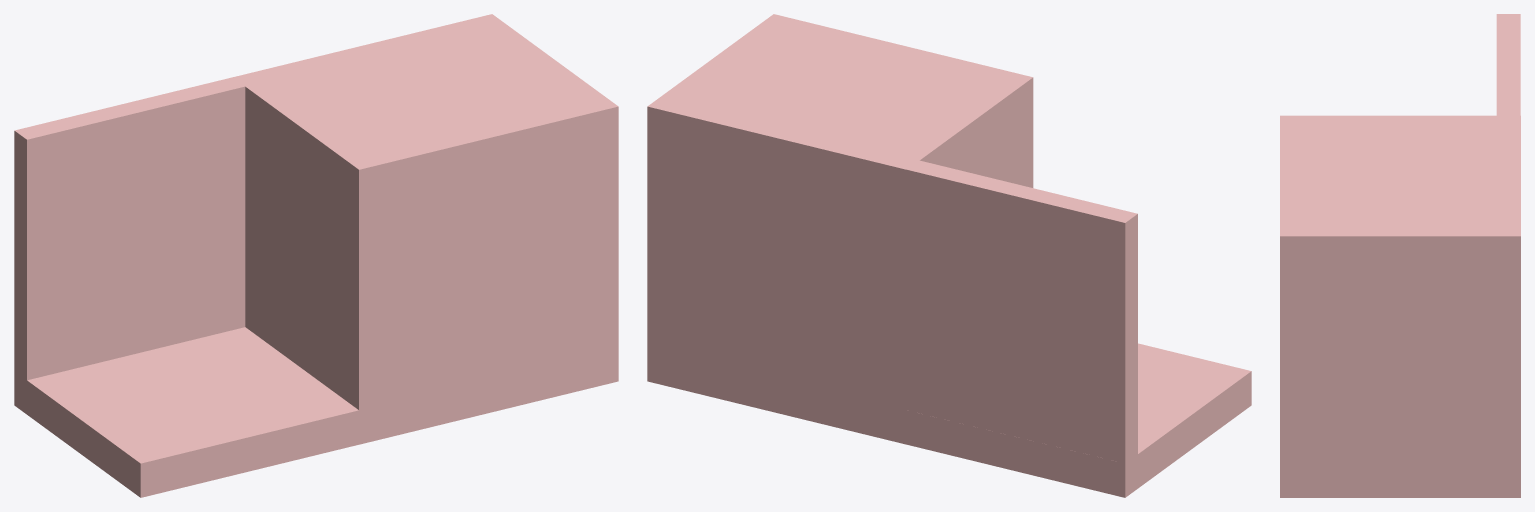
File: stage.gltf
3 renders of one model, left to right at view 1: azimuth 30°, elevation 25°; view 2: azimuth 150°, elevation 25°; view 3: azimuth 270°, elevation 25°, orthographic. The views are drawn at different scales.
Visible parts, largest first — view 1: Cube.2, Cube.1, Cube; view 2: Cube.2, Cube.1, Cube; view 3: Cube.2, Cube.1.
Part boxes in pixels (bbox=[...]): Cube.2: bbox=[233, 14, 618, 444]; Cube.1: bbox=[14, 77, 245, 413]; Cube: bbox=[14, 327, 358, 497]; Cube.2: bbox=[647, 14, 1033, 444]; Cube.1: bbox=[906, 160, 1137, 488]; Cube: bbox=[906, 343, 1251, 497]; Cube.2: bbox=[1280, 115, 1520, 497]; Cube.1: bbox=[1496, 14, 1520, 115].
Bounding box in the file's own units: 437 × 240 × 200.
